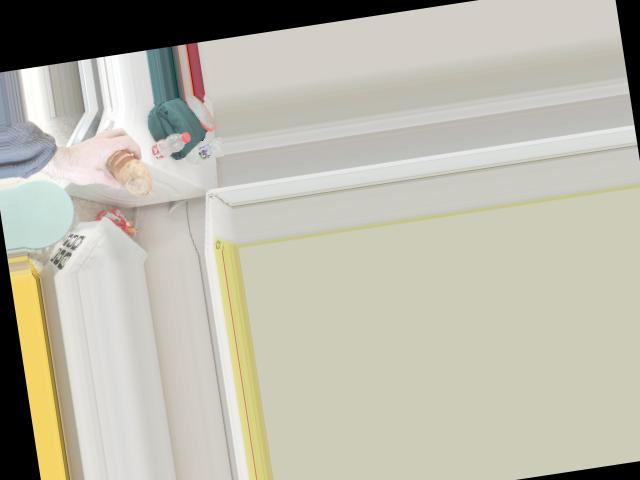sweet_potato: (105, 149, 156, 198)
